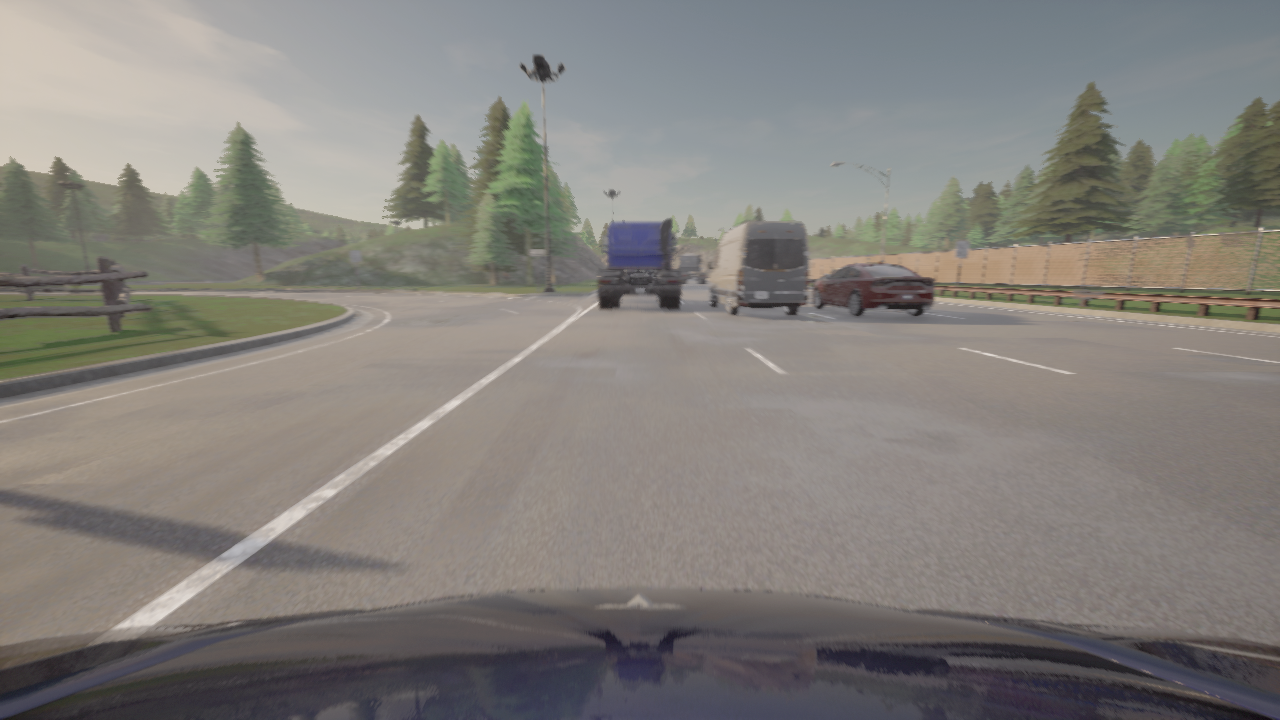cyclist: (0, 588, 1279, 719), (708, 221, 809, 315), (598, 219, 681, 308), (813, 262, 934, 315), (674, 253, 707, 284), (819, 268, 840, 279)
